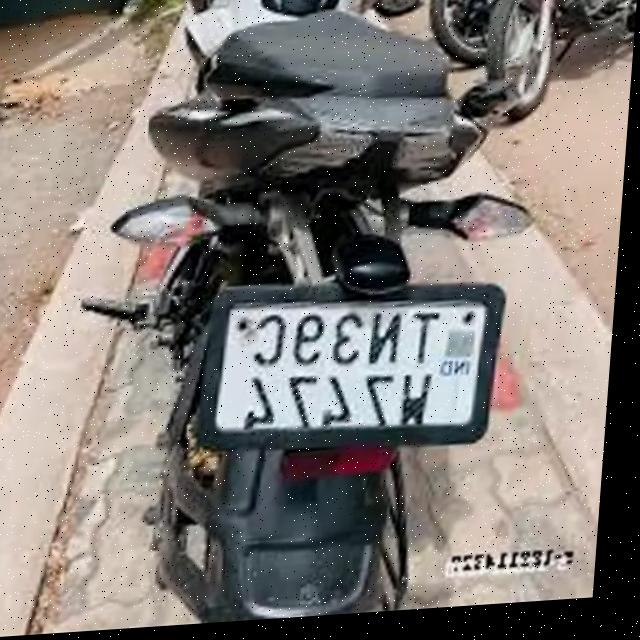plate: (201, 280, 513, 464)
